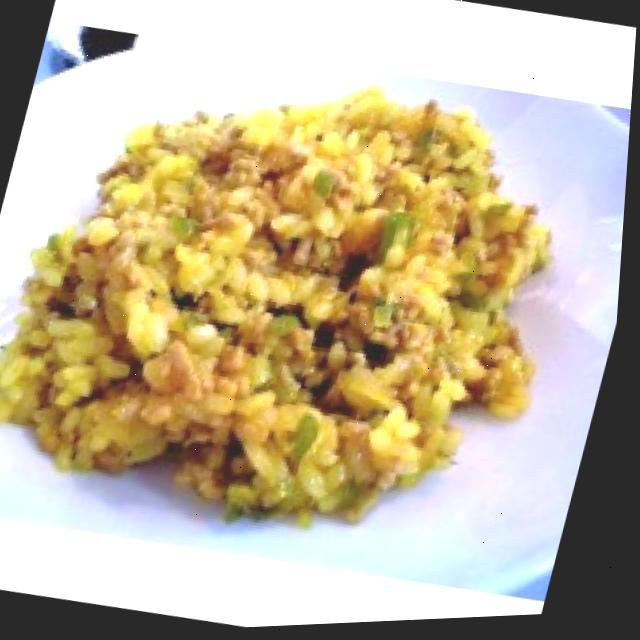米饭主食: (0, 9, 638, 591)
